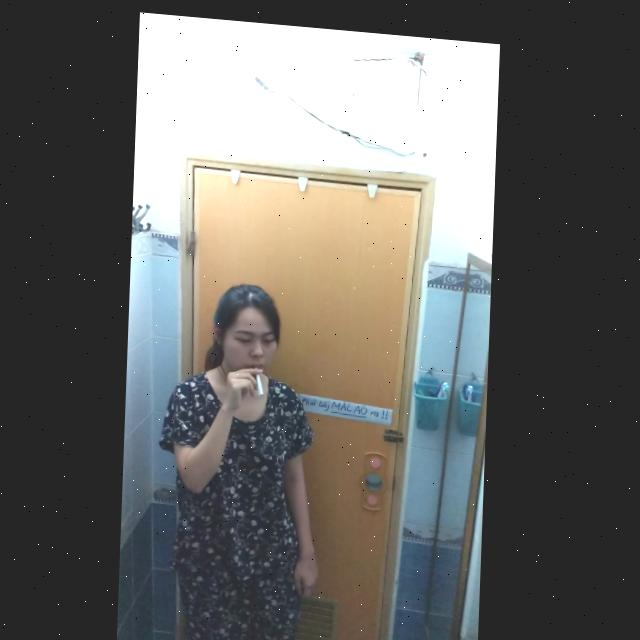cigarette: (256, 363, 267, 391)
